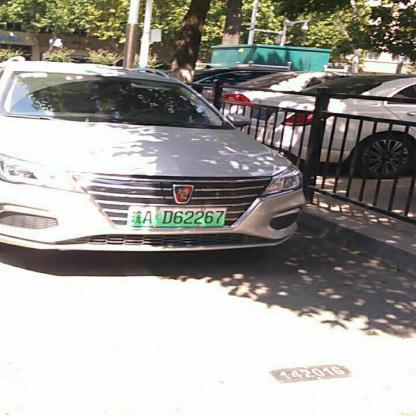lp: (127, 206, 226, 224)
